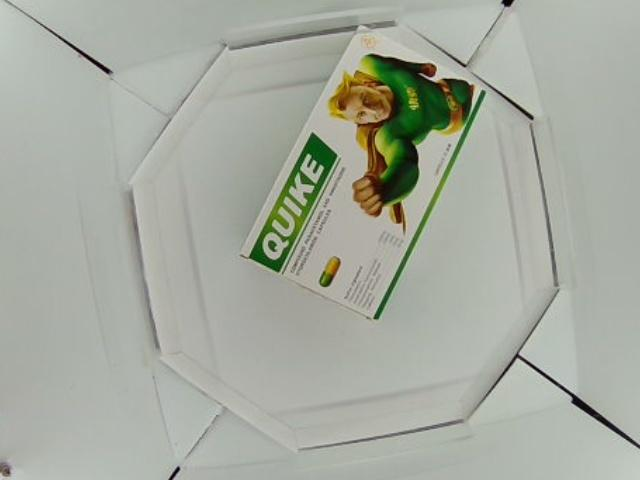Medicine: (242, 24, 485, 327)
